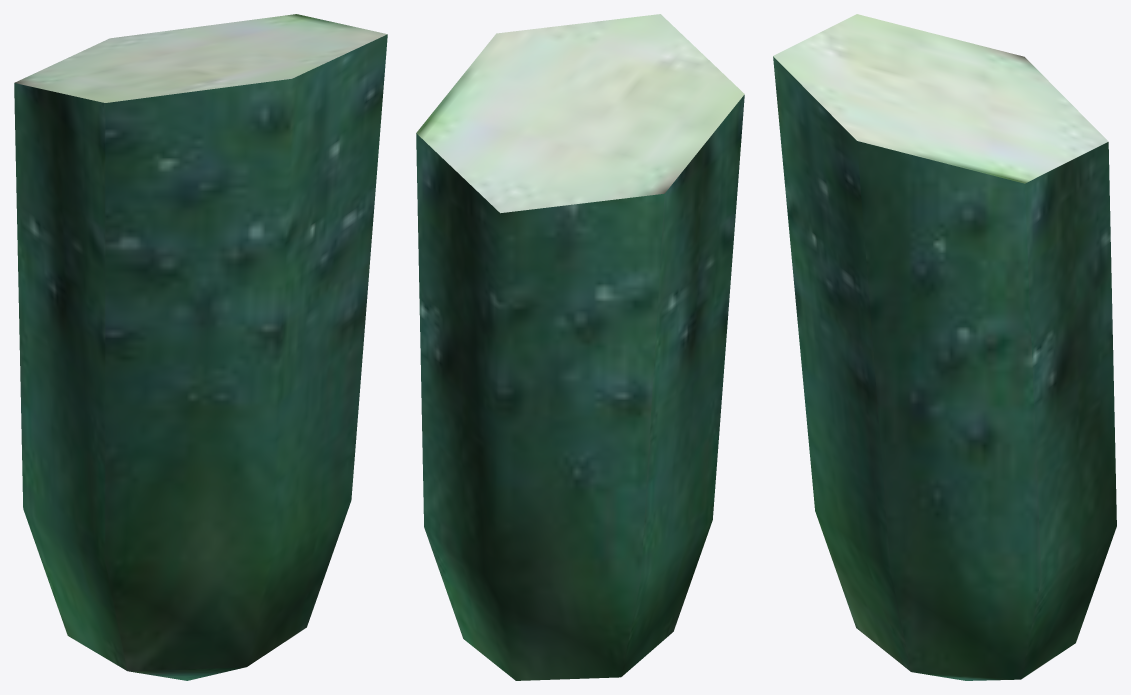
Rendered from Cucumber_02.glb.
3 renders of one model, left to right at view 1: azimuth 30°, elevation 25°; view 2: azimuth 150°, elevation 25°; view 3: azimuth 270°, elevation 25°, orthographic. The views are drawn at different scales.
Parts seen in each view (by area): view 1: Cucumber_02; view 2: Cucumber_02; view 3: Cucumber_02.
Part boxes in pixels (x1=…): Cucumber_02: x1=14, y1=14, x2=387, y2=680; Cucumber_02: x1=416, y1=14, x2=744, y2=680; Cucumber_02: x1=773, y1=14, x2=1116, y2=680.
Size of the model in its own units: 0.0692 by 0.1589 by 0.0793.
1 material, 1 textured.
